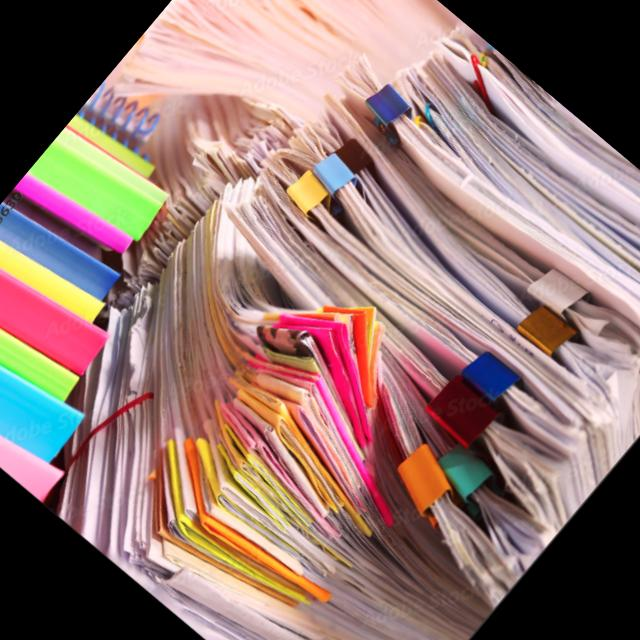KertasBekas: (0, 0, 640, 640), (104, 247, 495, 640), (0, 103, 244, 491)
